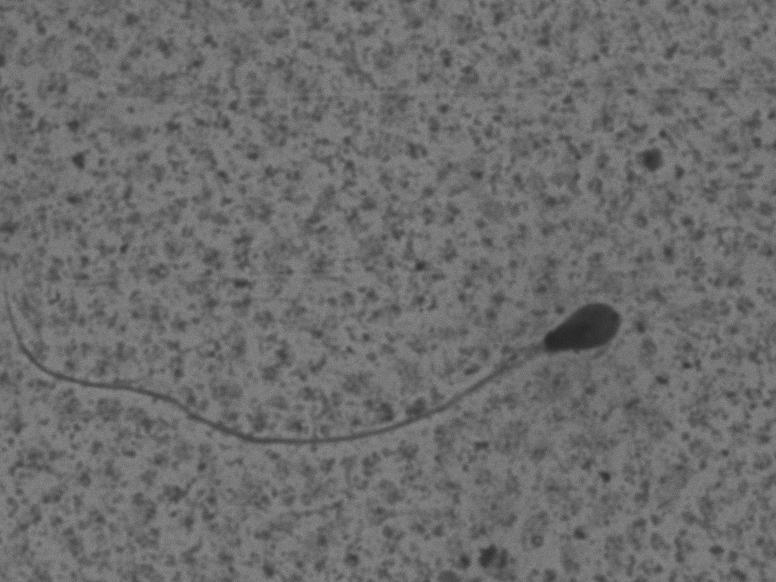Abnormal: (10, 230, 630, 478)
